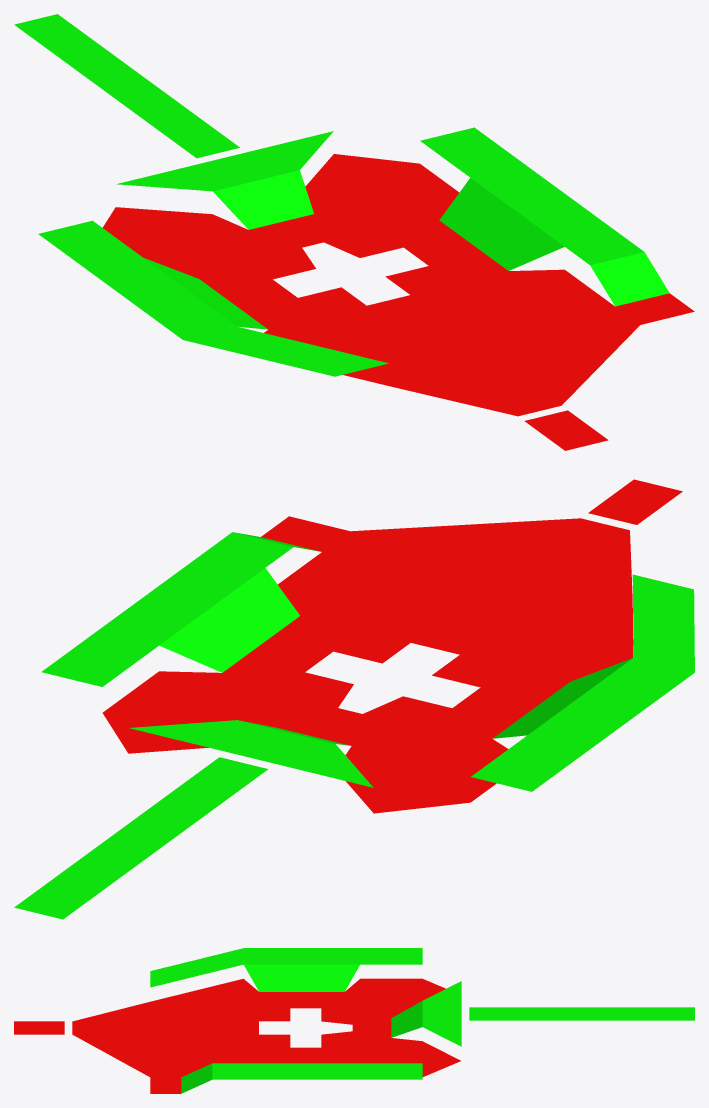
File: PisoSala1.glb
3 renders of one model, top to bottom at view 1: azimuth 30°, elevation 25°; view 2: azimuth 150°, elevation 25°; view 3: azimuth 270°, elevation 25°, orthographic. The views are drawn at different scales.
Visible parts, largest first — view 1: PisoSala1; view 2: PisoSala1; view 3: PisoSala1.
Boxes of the visible parts, bbox=[...] form: PisoSala1: bbox=[14, 14, 694, 450]; PisoSala1: bbox=[14, 479, 694, 919]; PisoSala1: bbox=[14, 948, 694, 1093].
Size of the model in its own units: 40 by 2 by 87.5.
